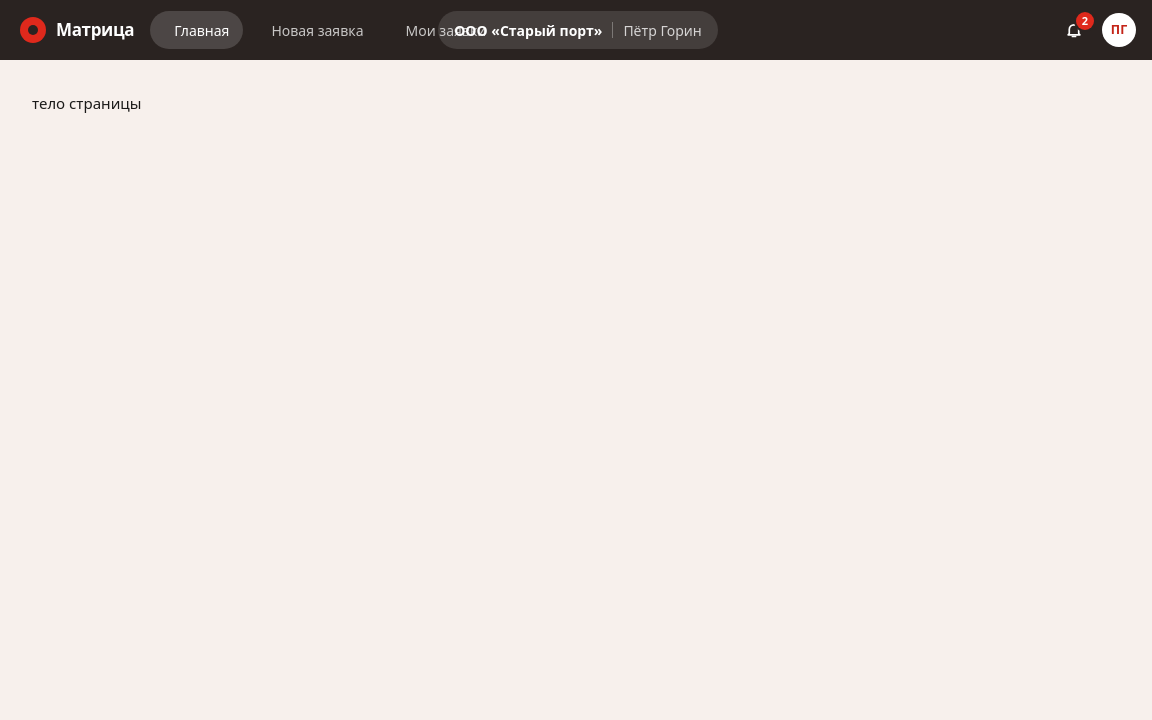
Test: AppShell › the bell shows the number, lists the latest news and links to the whole page
The width and height of the screenshot is (1152, 720).
Click the button named "Уведомления: 2".
click(1074, 30)  # box [1054,10,1094,50]
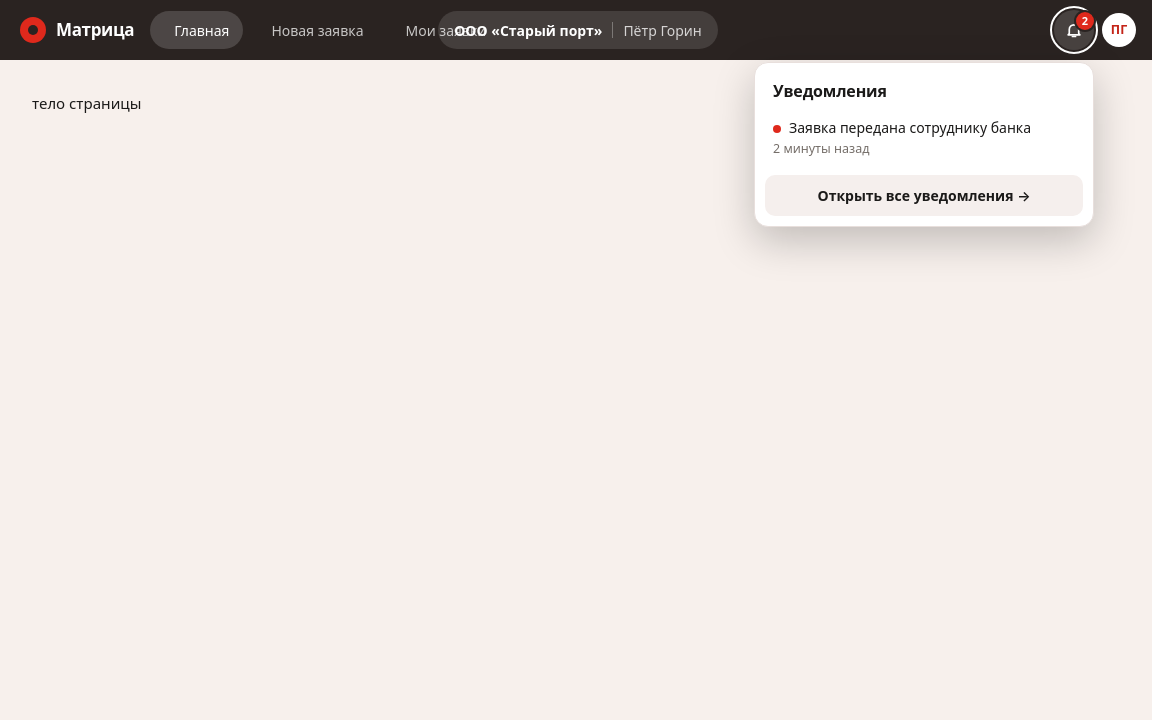
Expected: the text "Заявка передана сотруднику банка" is shown, [789,118,1031,137]
